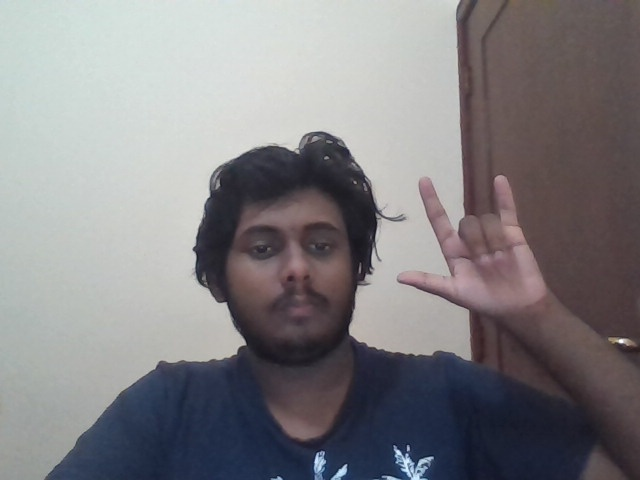iloveyou: (396, 176, 550, 320)
